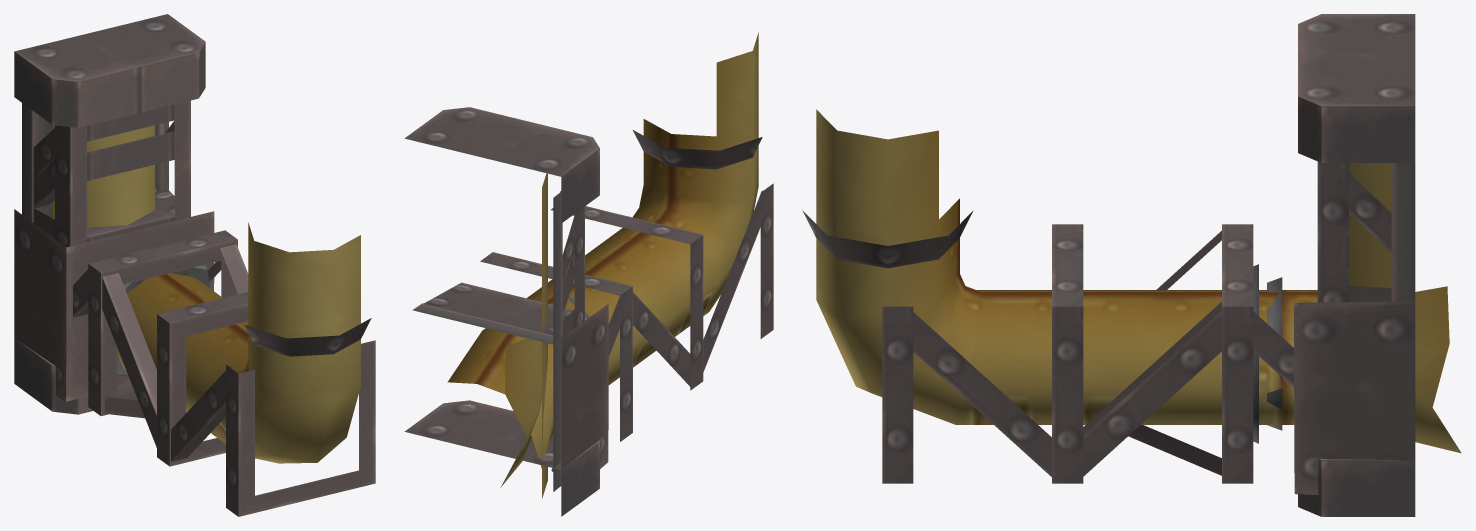
The model's file is fence_low.glb.
3 renders of one model, left to right at view 1: azimuth 30°, elevation 25°; view 2: azimuth 150°, elevation 25°; view 3: azimuth 270°, elevation 25°, orthographic. The views are drawn at different scales.
Visible parts, largest first — view 1: rsrc.world.tileset.prize_vault.fence.fence_low-Variant[fence (×11); view 2: rsrc.world.tileset.prize_vault.fence.fence_low-Variant[fence (×10); view 3: rsrc.world.tileset.prize_vault.fence.fence_low-Variant[fence (×11).
Boxes of the visible parts, left/top/right/bottom form: rsrc.world.tileset.prize_vault.fence.fence_low-Variant[fence (×11): left=14, top=14, right=375, bottom=516; rsrc.world.tileset.prize_vault.fence.fence_low-Variant[fence (×10): left=404, top=32, right=773, bottom=516; rsrc.world.tileset.prize_vault.fence.fence_low-Variant[fence (×11): left=802, top=14, right=1461, bottom=516.
Size of the model in its own units: 1.12 by 2.32 by 3.38.
2 materials, 2 textured.
